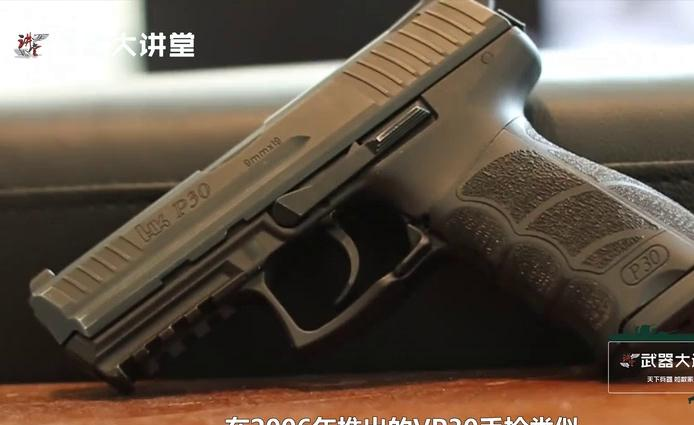gun: (1, 0, 694, 425)
